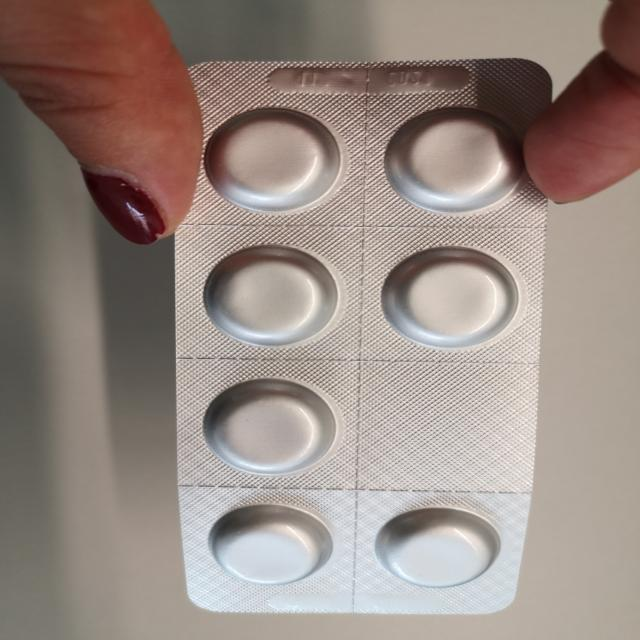Pill: (378, 102, 526, 218), (377, 239, 527, 351), (197, 240, 346, 350), (203, 104, 348, 217), (196, 377, 340, 477), (371, 502, 507, 591), (204, 498, 336, 589)
